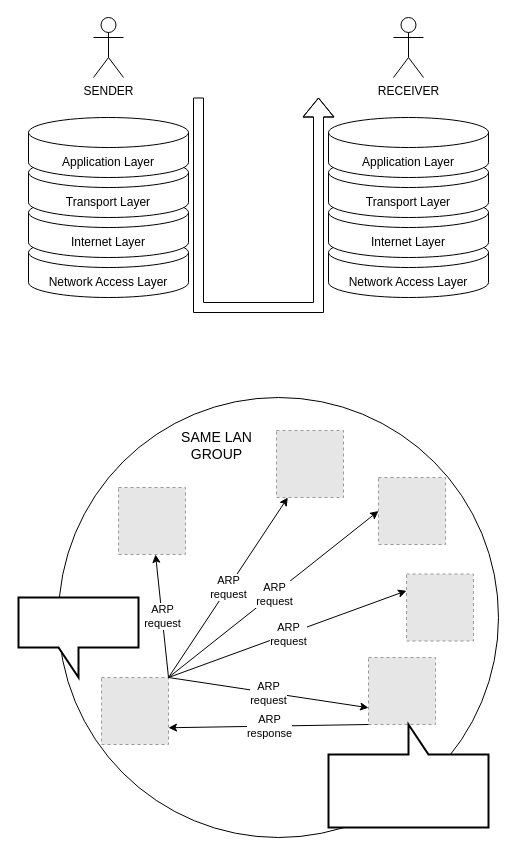
Some shapes in this 516 by 855 pixel diagram are drawn without their labels. Grey dashed boxes stand in for pictures. The shapes that lost their labels are listed below. From the top down, each one's centre as x and y in pixels, then its label:
the point at 78,637: who has xxx.xxx.xxx.xxxx ip?
the point at 408,775: me! my MAC address is XXX!
